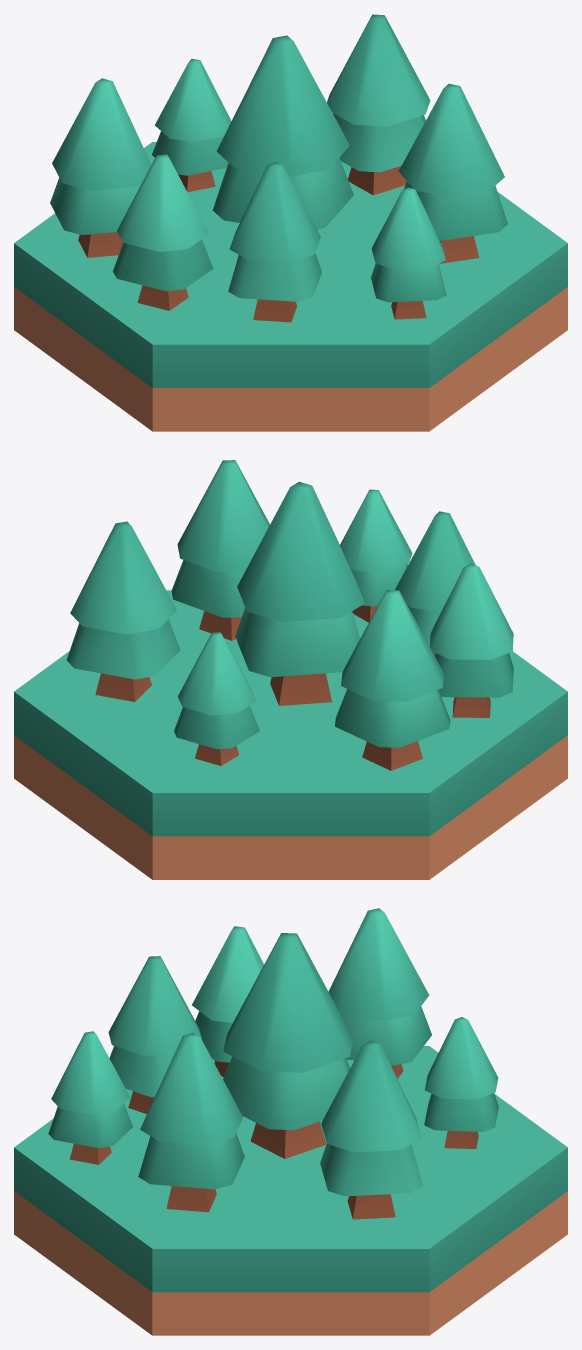
Rendered from kenney-hexagon-grass-forest.glb.
3 renders of one model, top to bottom at view 1: azimuth 30°, elevation 25°; view 2: azimuth 150°, elevation 25°; view 3: azimuth 270°, elevation 25°, orthographic.
Parts seen in each view (by area): view 1: grass_forest; view 2: grass_forest; view 3: grass_forest.
Boxes of the visible parts, box(x1,y1,x2,y2) form: grass_forest: box(14, 14, 567, 431); grass_forest: box(14, 460, 567, 879); grass_forest: box(14, 908, 567, 1335).
Size of the model in its own units: 1 by 0.675 by 1.15.
Materials: 1 (1 with a texture image).
